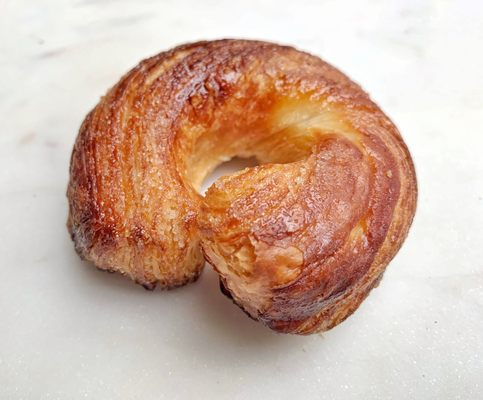salad: (65, 37, 416, 338)
